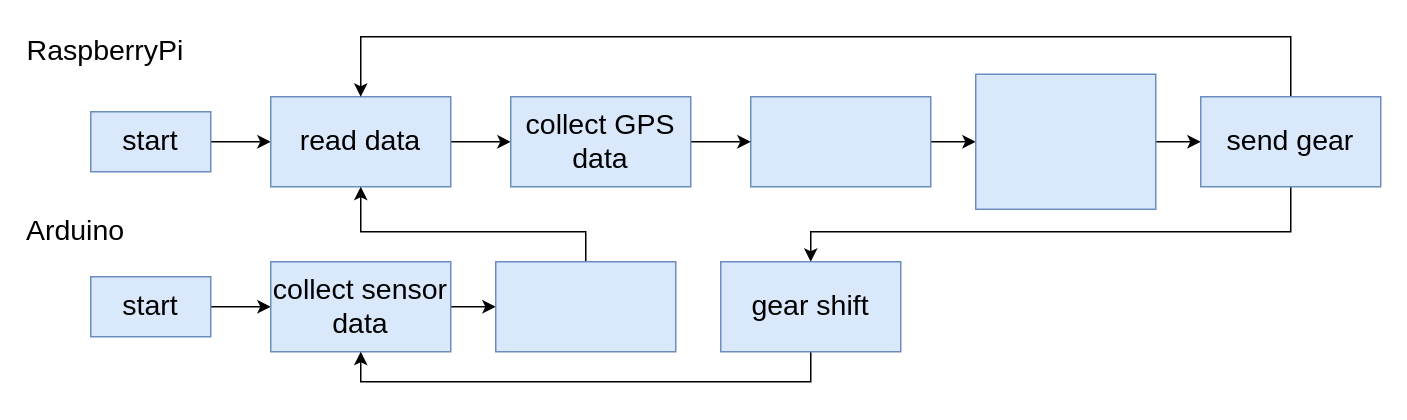
The diagram is 1407 pixels wide and 420 high, and some of its shapes have lost their labels. Each missing label, with the box of its shape:
regulate data by time: (749, 95, 931, 187)
send data: (494, 260, 676, 352)
use sensor data and GPS to make decide: (974, 73, 1156, 209)
